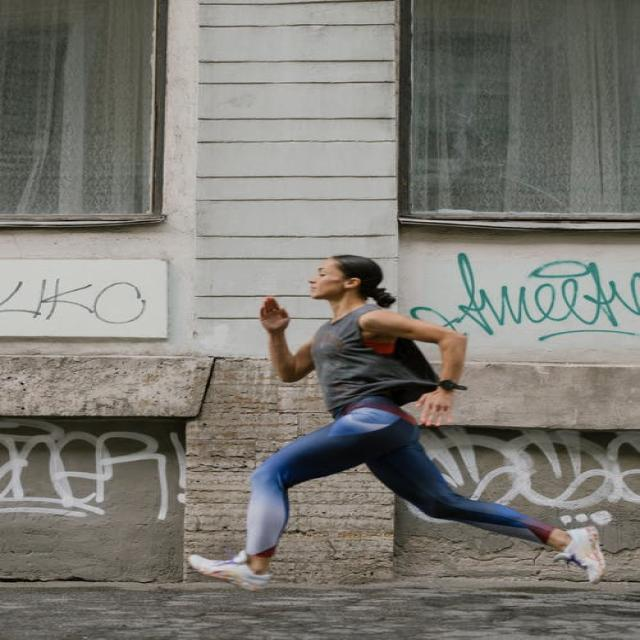running: (185, 252, 609, 596)
